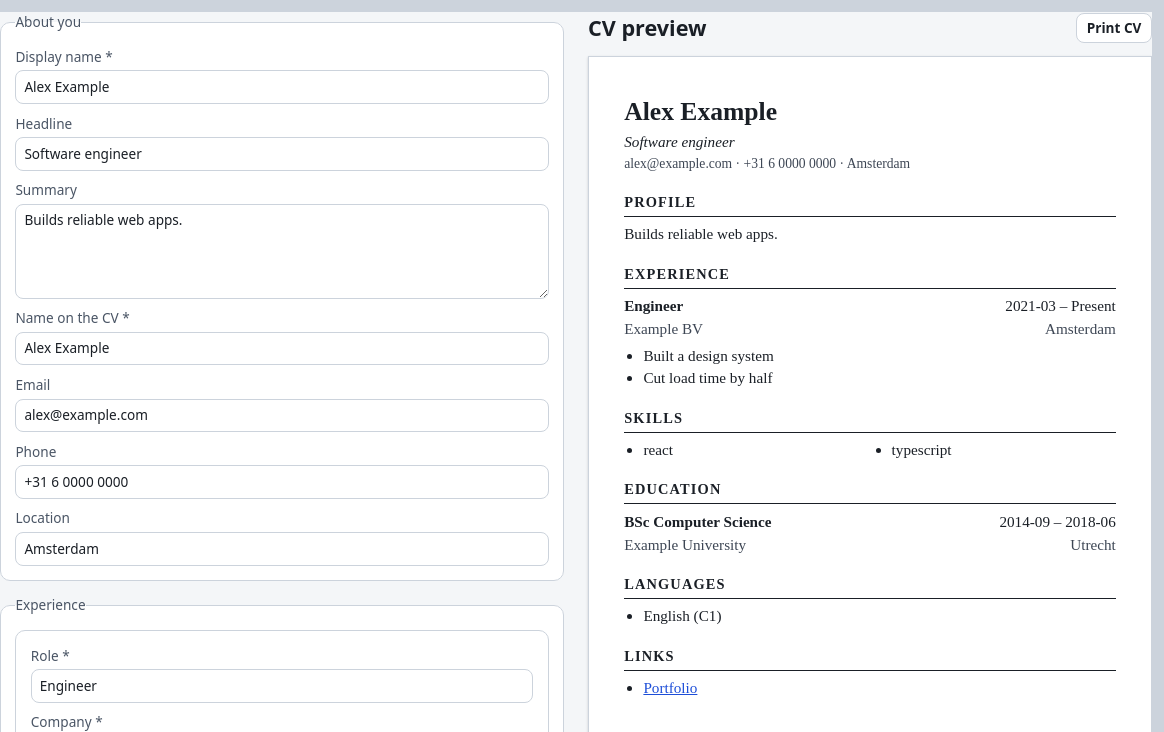
Scenario: ProfileEditor › shows a stored profile and a live preview that follows edits
This screenshot has width=1164, height=732.
Expected: the field labelled "Display name *" holds "Alex Example", [15,70,549,104]
Replace the text in the field labelled "Headline" with "Staff engineer" at (282, 154), box [15,137,549,171]
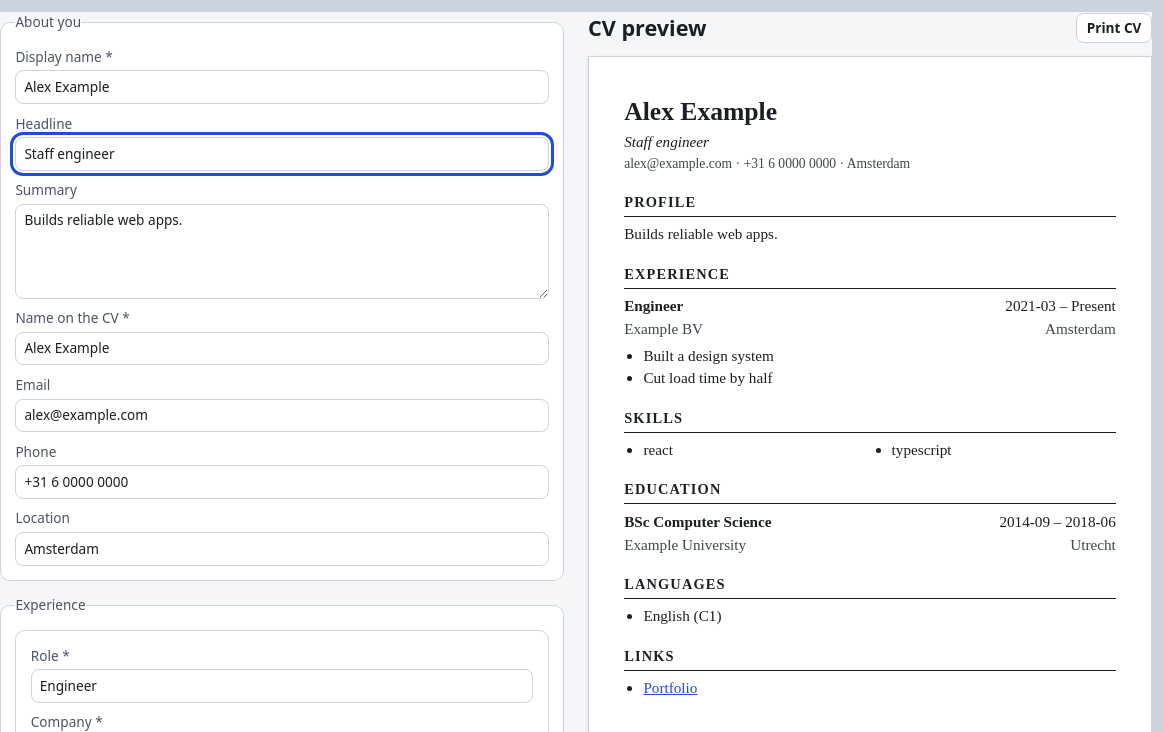
Result: the text "Staff engineer" is shown at [624,133,709,150]
Type " Loves a11y." into the text box labelled "Summary" at (282, 251), box [15,204,549,299]
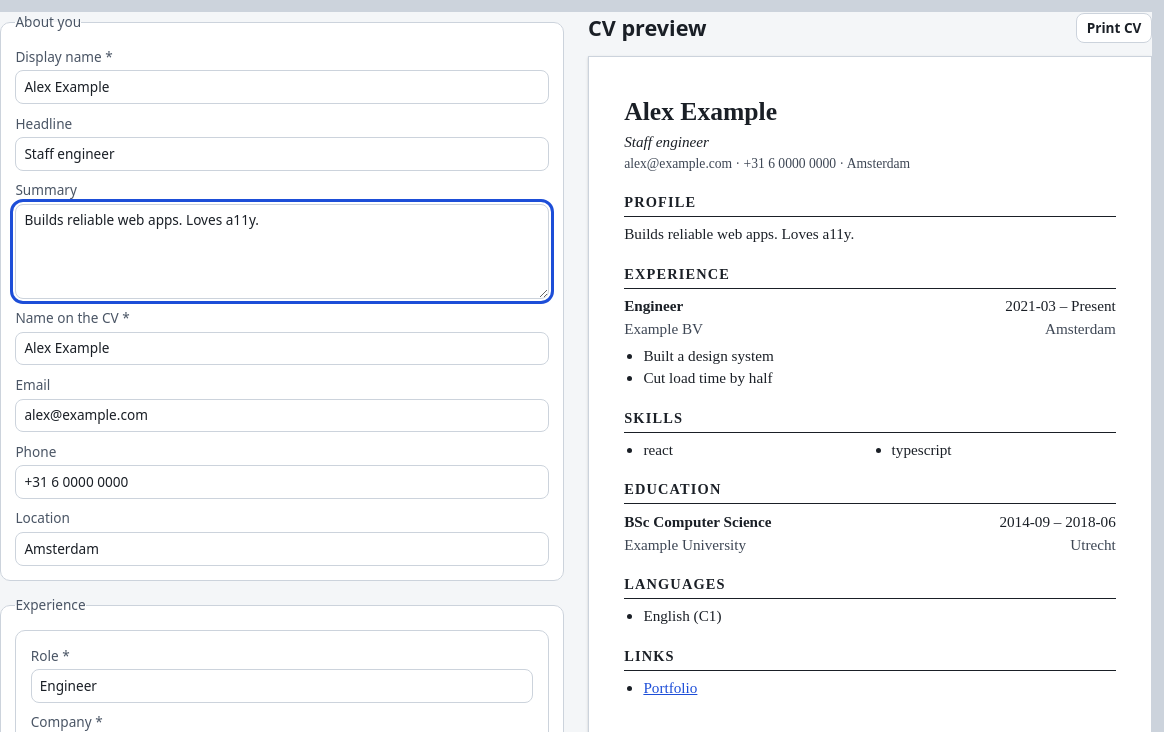
Result: the text "Builds reliable web apps. Loves a11y." is shown at [624,225,854,242]
